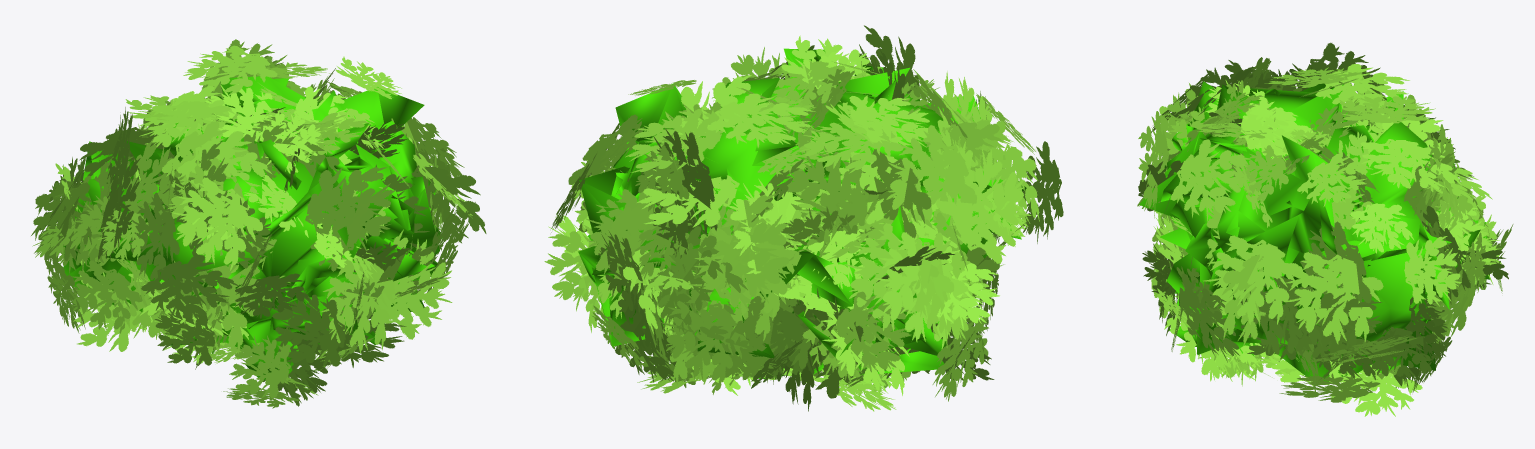
The model's file is TreeTest1.fbx.
3 renders of one model, left to right at view 1: azimuth 30°, elevation 25°; view 2: azimuth 150°, elevation 25°; view 3: azimuth 270°, elevation 25°, orthographic. The views are drawn at different scales.
Parts seen in each view (by area): view 1: Mball.001; view 2: Mball.001; view 3: Mball.001.
Boxes of the visible parts, <box> form: Mball.001: <box>31,39,486,408</box>; Mball.001: <box>544,25,1063,411</box>; Mball.001: <box>1137,42,1513,416</box>.
Size of the model in its own units: 776 by 629 by 669.
